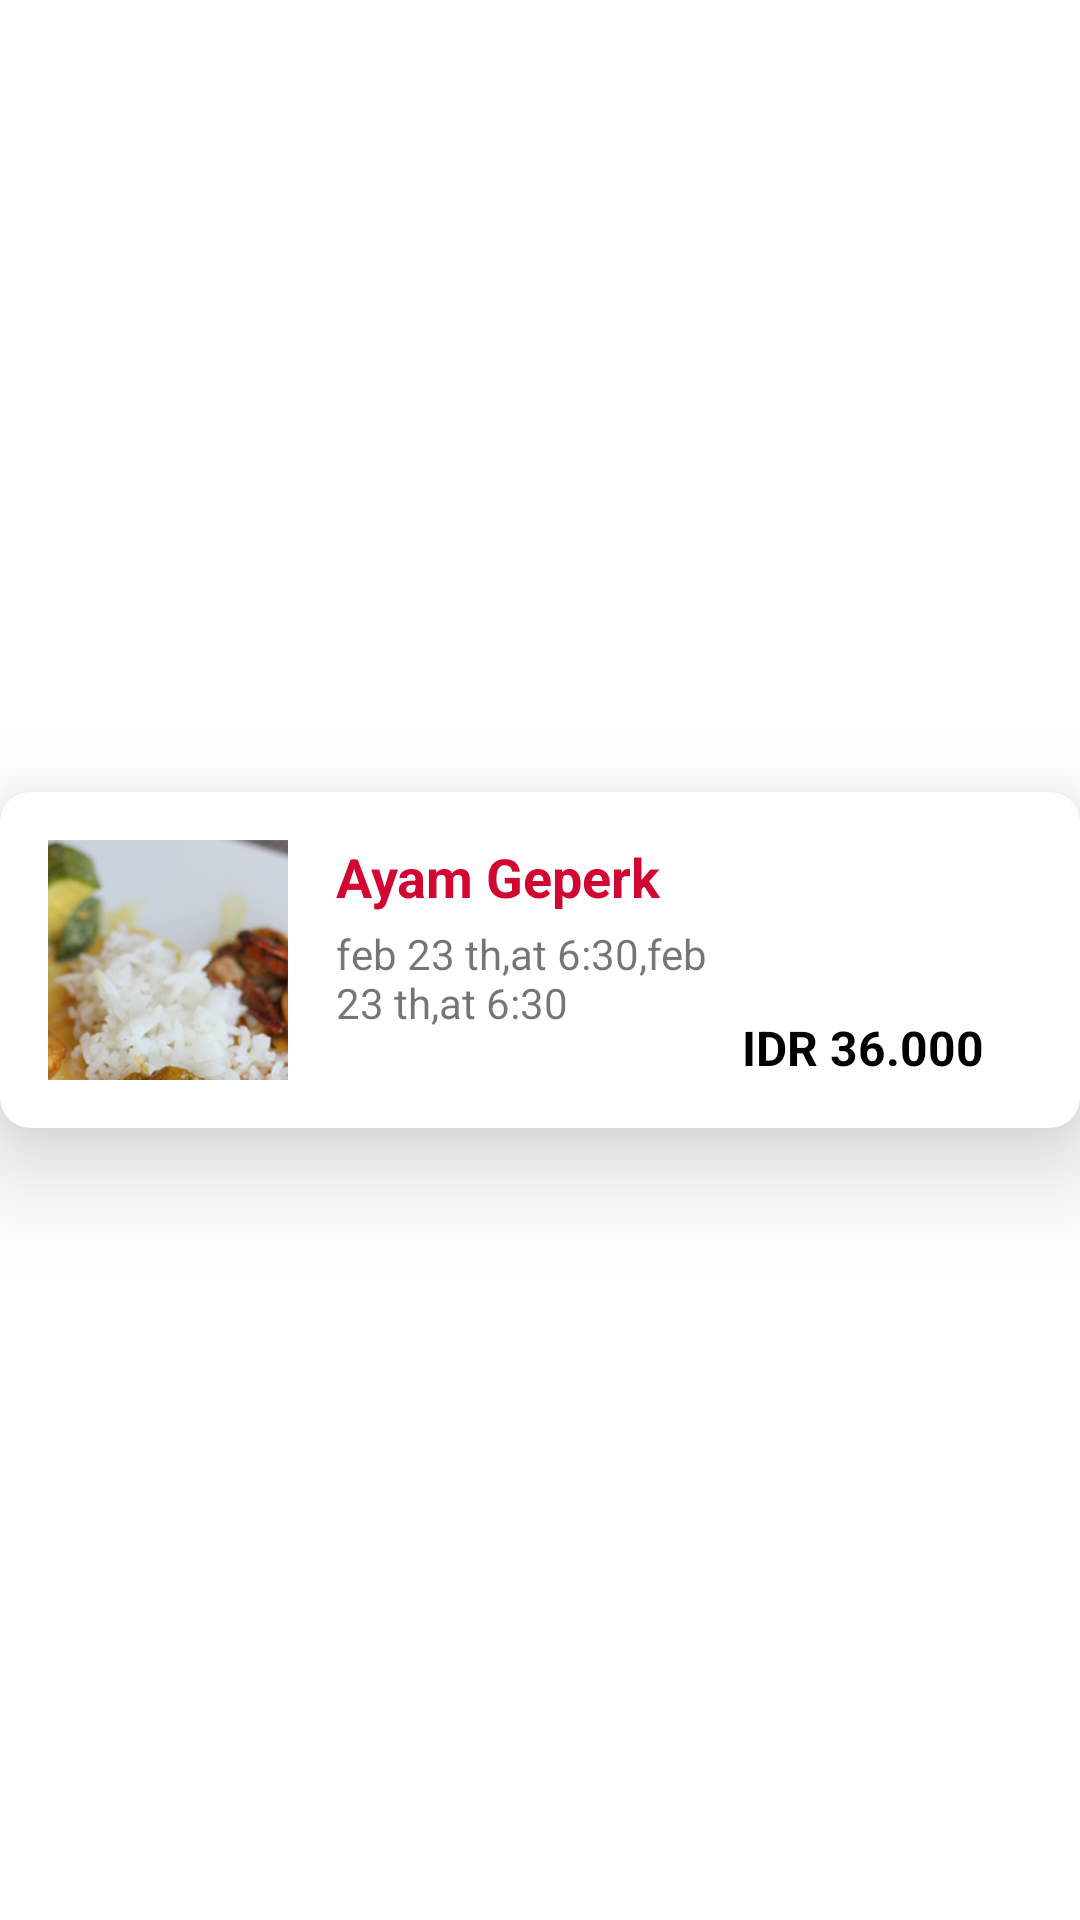

Icon bounding boxes for this 1080 x 1920 phone screenshot, format (x1, y1, x2, y2):
foodicon: (48, 840, 288, 1080)
